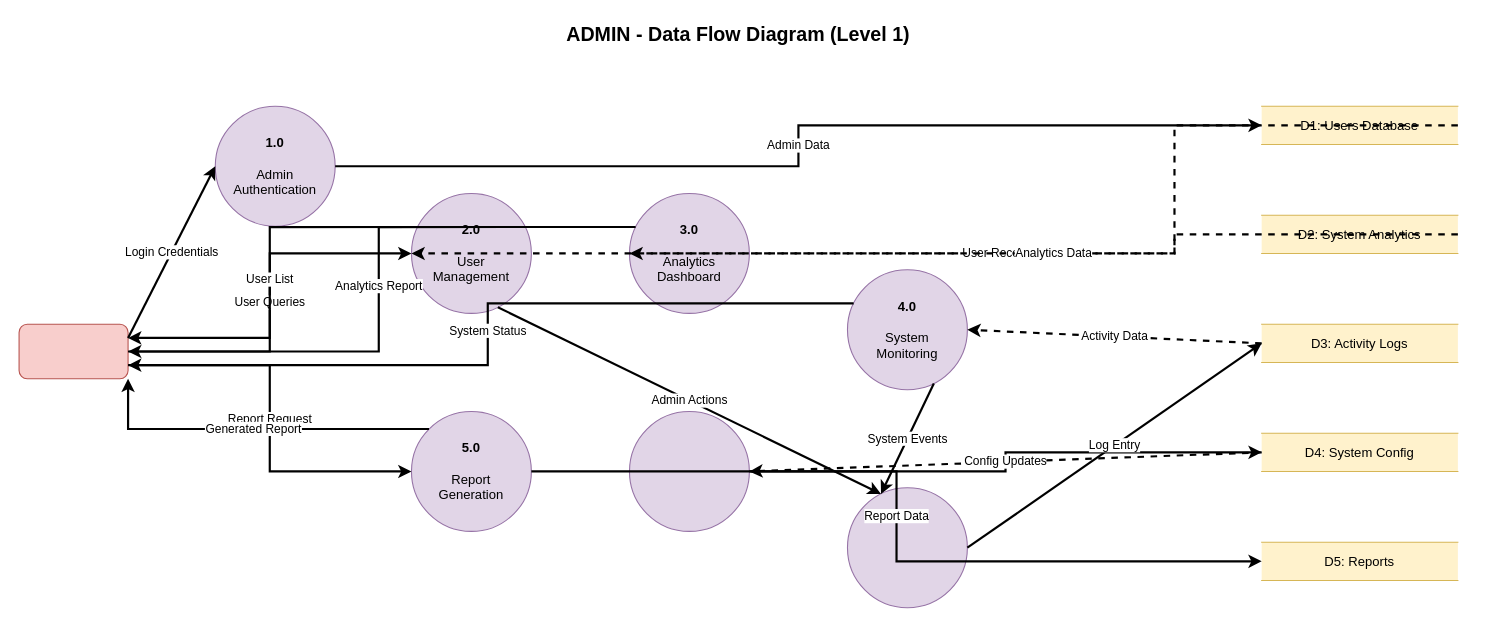
The diagram is 1487 pixels wide and 627 high, and some of its shapes have lost their labels. The box of each missing label's shape, as (x1, y1, x2, y2) in pixels:
6.0 System Configuration: (628, 410, 749, 531)
7.0 Activity Logging: (846, 487, 967, 608)
Administrator: (18, 323, 128, 379)
